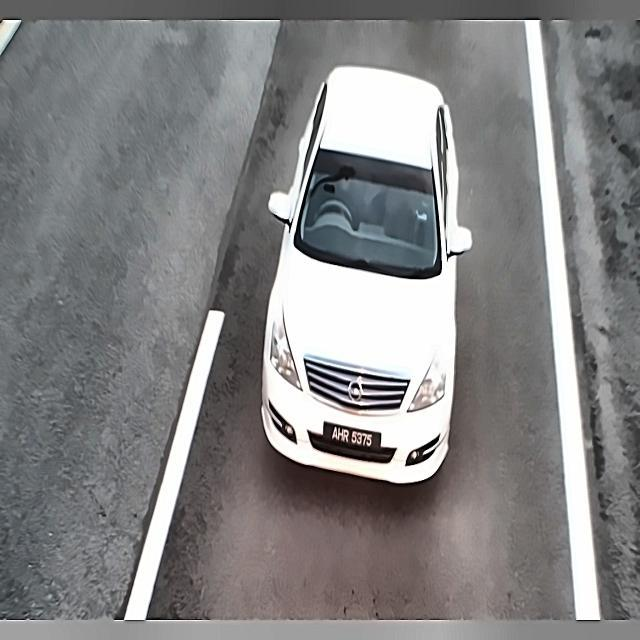car: (320, 422, 384, 458)
